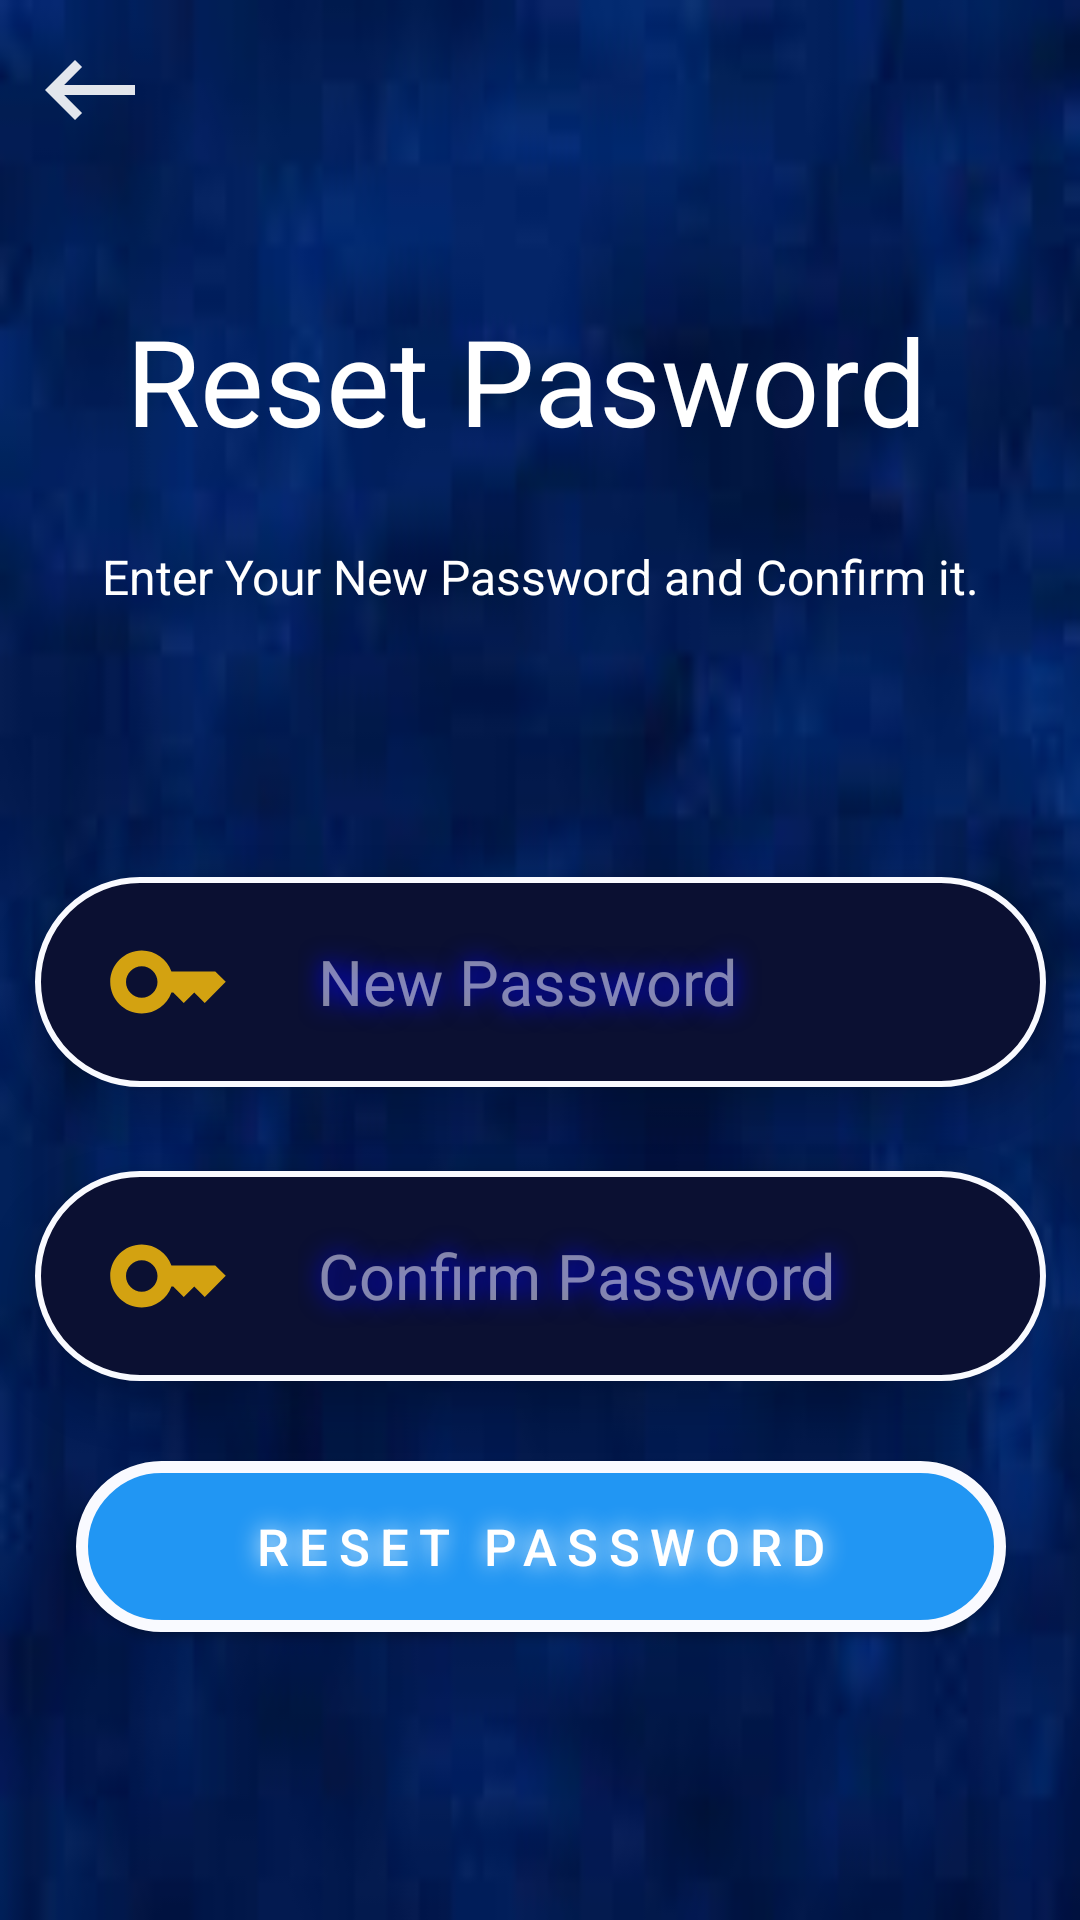

Point at icon controls on the screen. Image size 1080w x 1920h, points as (x=x, y=y).
keyboard backspace: (x=90, y=90)
